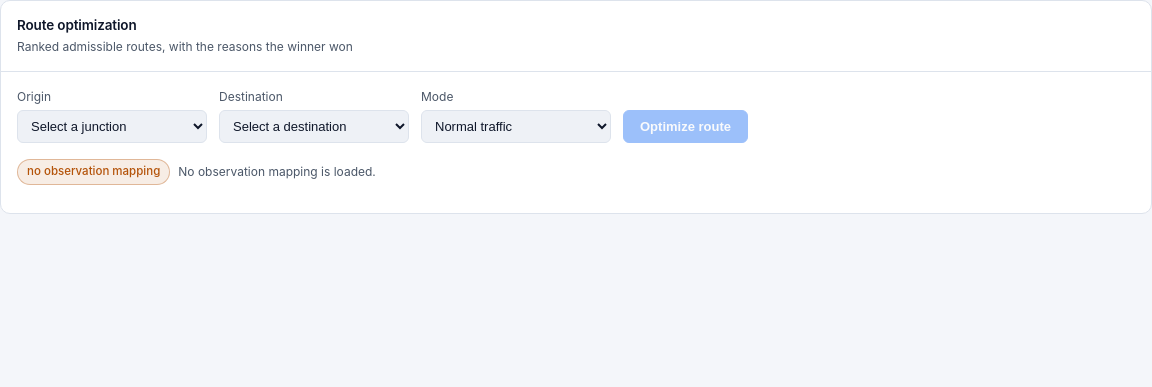
it: RouteOptimizationPanel › shows a refusal with its causes and no route
Select "J1" in the dropdown labelled "Origin" at (112, 127), box [17,110,207,143]
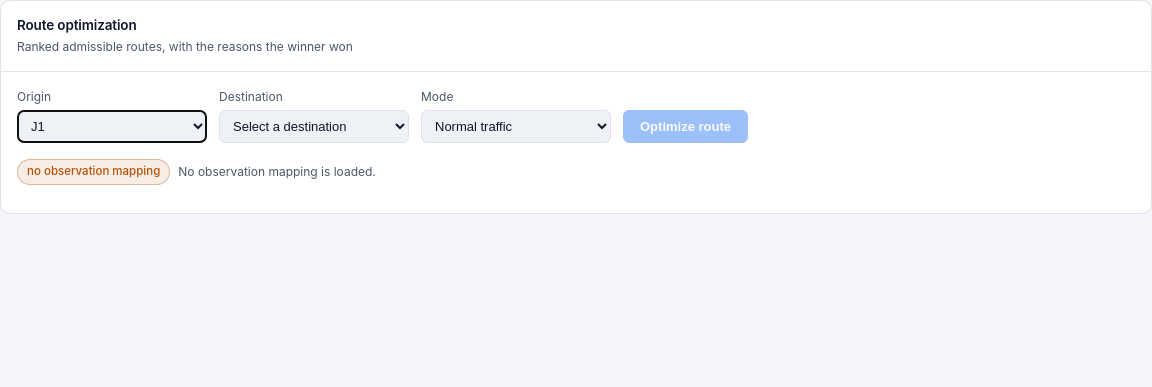
Select "J3" in the dropdown labelled "Destination" at (314, 127), box [219,110,409,143]
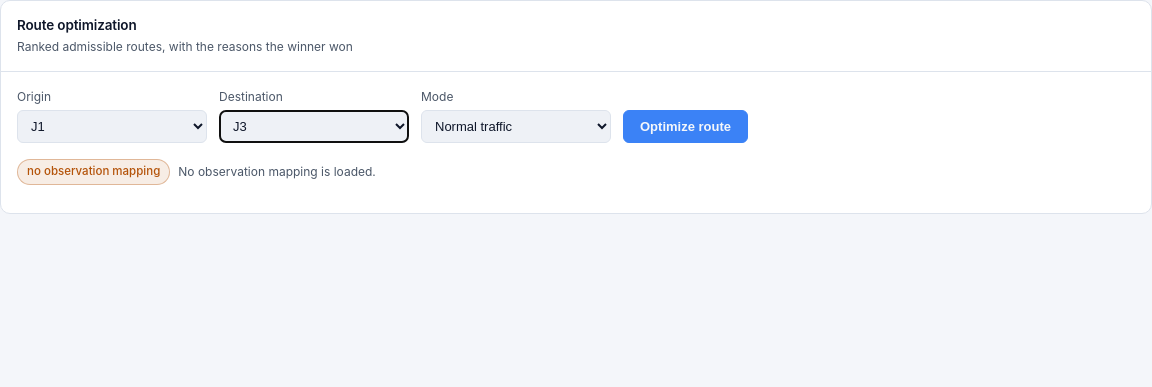
Click the button "Optimize route" at (686, 127), box [623,110,748,143]
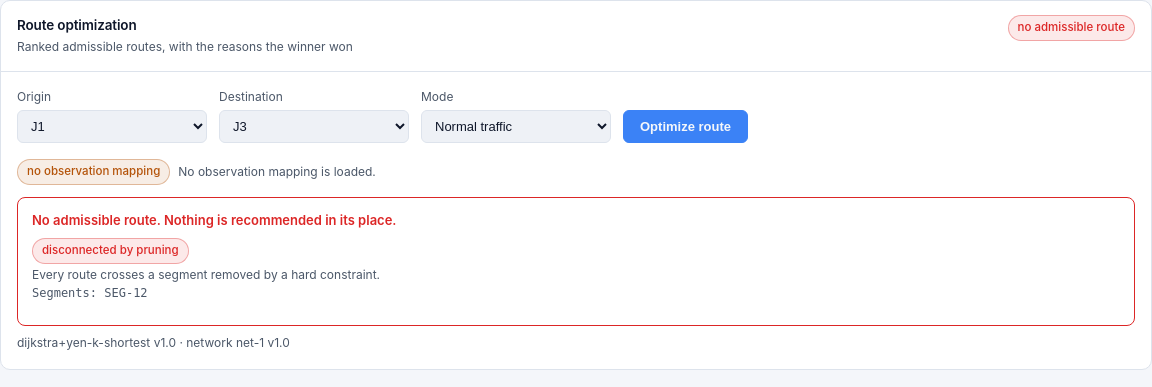
expect the text "No admissible route. Nothing is recommended in its place." is shown: met, box [32,212,396,228]
expect the text "disconnected by pruning" is shown: met, box [32,238,189,264]
expect the text "Segments: SEG-12" is shown: met, box [32,286,148,300]
